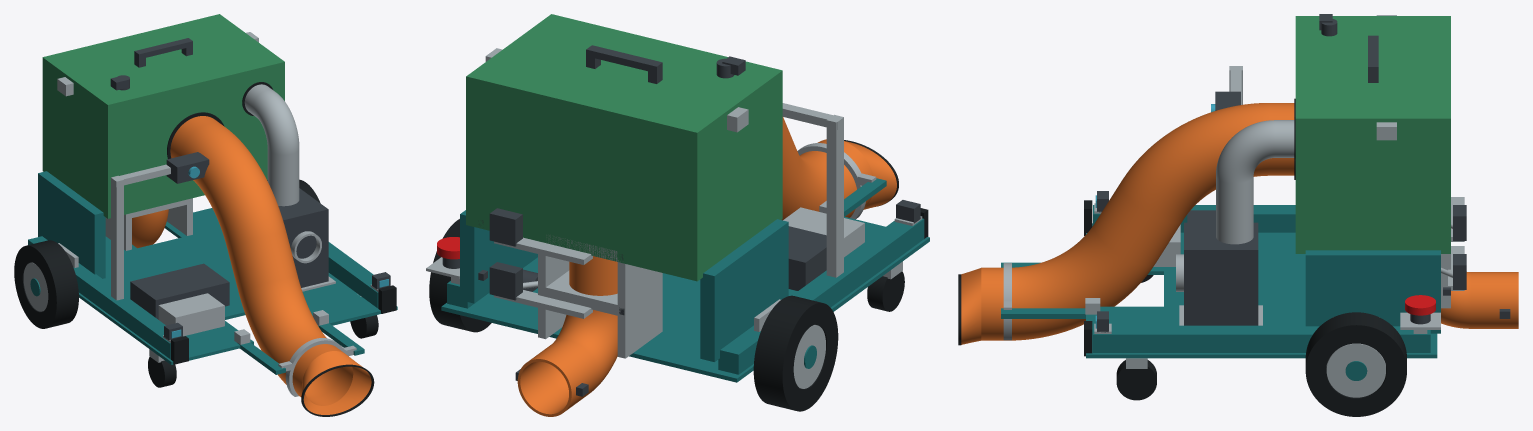
Rendered from Padel_Collector_V4_Auto_Dispense.glb.
3 views of the same model, side by side, from view 1: azimuth 30°, elevation 25°; view 2: azimuth 150°, elevation 25°; view 3: azimuth 270°, elevation 25° (orthographic). The views are drawn at different scales.
Parts seen in each view (by area): view 1: SEALED_rear_ball_receiver, 100mm_ID_continuous_ball_transfer_pipe, Removable_airtight_receiver_lid, Chassis_with_front_pipe_clearance, Receiver_support_-187, 50mm_ID_receiver_to_blower_air_branch, Left_drive_tyre, Battery_ENVELOPE, Suction_blower_plus_filter_ENVELOPE, Left_frame_rail, Low_oval_pickup_nozzle_140x90_inside, Control_box_ENVELOPE (+18 smaller); view 2: SEALED_rear_ball_receiver, Removable_airtight_receiver_lid, Chassis_with_front_pipe_clearance, Receiver_support_-187, Automatic_rear_ball_outlet_76mm_ID, Left_drive_tyre, Left_frame_rail, 100mm_ID_continuous_ball_transfer_pipe, Dispenser_mount_post_-62, Receiver_support_187, Camera_mast, Battery_ENVELOPE (+18 smaller); view 3: 100mm_ID_continuous_ball_transfer_pipe, SEALED_rear_ball_receiver, Removable_airtight_receiver_lid, Receiver_support_187, Chassis_with_front_pipe_clearance, Suction_blower_plus_filter_ENVELOPE, Right_frame_rail, Right_drive_tyre, 50mm_ID_receiver_to_blower_air_branch, Automatic_rear_ball_outlet_76mm_ID, Right_wheel_hub, Low_oval_pickup_nozzle_140x90_inside (+8 smaller).
Part boxes in pixels (x1,y1,x2,y2): SEALED_rear_ball_receiver: (42,60,284,218); 100mm_ID_continuous_ball_transfer_pipe: (170,116,353,405); Removable_airtight_receiver_lid: (42,14,284,107); Chassis_with_front_pipe_clearance: (79,208,397,364); Receiver_support_-187: (38,171,105,278); 50mm_ID_receiver_to_blower_air_branch: (244,84,299,206); Left_drive_tyre: (14,240,78,328); Battery_ENVELOPE: (130,263,229,319); Suction_blower_plus_filter_ENVELOPE: (278,188,328,287); Left_frame_rail: (28,236,170,358); Low_oval_pickup_nozzle_140x90_inside: (301,351,371,414); Control_box_ENVELOPE: (158,293,224,336); SEALED_rear_ball_receiver: (466,74,782,281); Removable_airtight_receiver_lid: (466,14,782,136); Chassis_with_front_pipe_clearance: (441,216,929,382); Receiver_support_-187: (700,219,788,361); Automatic_rear_ball_outlet_76mm_ID: (517,310,617,416); Left_drive_tyre: (753,295,838,411); Left_frame_rail: (718,218,924,374); 100mm_ID_continuous_ball_transfer_pipe: (782,117,873,220); Dispenser_mount_post_-62: (617,260,662,358); Receiver_support_187: (460,210,537,303); Camera_mast: (826,114,843,277); Battery_ENVELOPE: (788,226,826,290); 100mm_ID_continuous_ball_transfer_pipe: (981,103,1294,340); SEALED_rear_ball_receiver: (1295,121,1450,253); Removable_airtight_receiver_lid: (1295,16,1450,121); Receiver_support_187: (1305,250,1440,333); Chassis_with_front_pipe_clearance: (1086,223,1437,358); Suction_blower_plus_filter_ENVELOPE: (1184,222,1258,325); Right_frame_rail: (1093,325,1430,352); Right_drive_tyre: (1305,312,1406,416); 50mm_ID_receiver_to_blower_air_branch: (1216,120,1294,244); Automatic_rear_ball_outlet_76mm_ID: (1441,272,1518,328); Right_wheel_hub: (1326,343,1385,397); Low_oval_pickup_nozzle_140x90_inside: (961,268,981,344).
Bounding box in the file's own units: 552 × 469 × 829.
